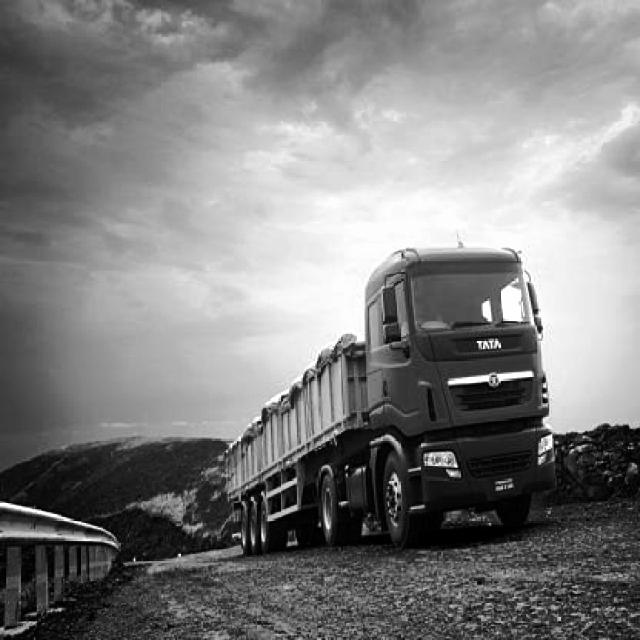HCV: (182, 235, 560, 522)
